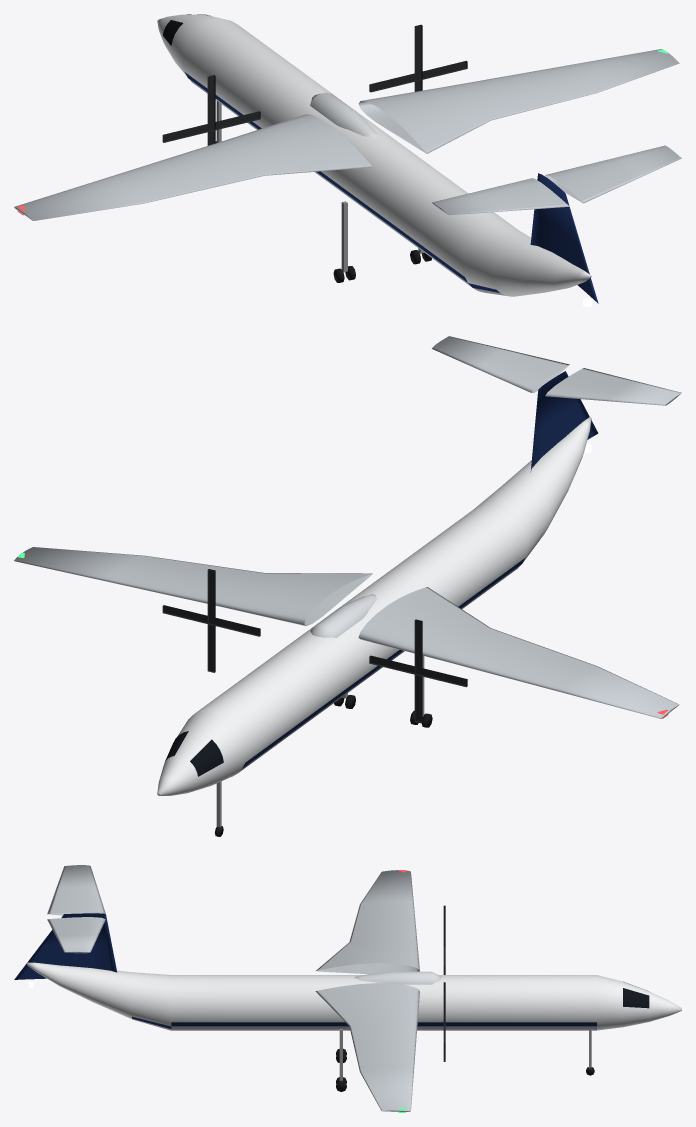
File: fleet_turboprop2_lod0.glb
3 views of the same model, one above another, from view 1: azimuth 30°, elevation 25°; view 2: azimuth 150°, elevation 25°; view 3: azimuth 270°, elevation 25° (orthographic). The views are drawn at different scales.
Parts seen in each view (by area): view 1: fleet_turboprop2_lod0_wing, fleet_turboprop2_lod0_white, fleet_turboprop2_lod0_blue, fleet_turboprop2_lod0_dark, fleet_turboprop2_lod0_nacelle, fleet_turboprop2_lod0_metal, fleet_turboprop2_lod0_belly, fleet_turboprop2_lod0_tyre; view 2: fleet_turboprop2_lod0_wing, fleet_turboprop2_lod0_white, fleet_turboprop2_lod0_blue, fleet_turboprop2_lod0_dark, fleet_turboprop2_lod0_nacelle, fleet_turboprop2_lod0_glass; view 3: fleet_turboprop2_lod0_white, fleet_turboprop2_lod0_wing, fleet_turboprop2_lod0_blue, fleet_turboprop2_lod0_belly, fleet_turboprop2_lod0_nacelle, fleet_turboprop2_lod0_dark, fleet_turboprop2_lod0_glass.
Part boxes in pixels (<box>): fleet_turboprop2_lod0_wing: <box>14,49,681,220</box>; fleet_turboprop2_lod0_white: <box>157,14,591,296</box>; fleet_turboprop2_lod0_blue: <box>185,72,598,303</box>; fleet_turboprop2_lod0_dark: <box>162,24,467,145</box>; fleet_turboprop2_lod0_nacelle: <box>310,92,376,137</box>; fleet_turboprop2_lod0_metal: <box>216,101,424,272</box>; fleet_turboprop2_lod0_belly: <box>188,78,515,296</box>; fleet_turboprop2_lod0_tyre: <box>215,141,431,282</box>; fleet_turboprop2_lod0_wing: <box>14,336,681,718</box>; fleet_turboprop2_lod0_white: <box>157,417,591,795</box>; fleet_turboprop2_lod0_blue: <box>242,371,598,768</box>; fleet_turboprop2_lod0_dark: <box>162,569,467,723</box>; fleet_turboprop2_lod0_nacelle: <box>310,594,376,637</box>; fleet_turboprop2_lod0_glass: <box>164,731,223,776</box>; fleet_turboprop2_lod0_white: <box>27,962,681,1030</box>; fleet_turboprop2_lod0_wing: <box>47,865,419,1111</box>; fleet_turboprop2_lod0_blue: <box>14,913,596,1028</box>; fleet_turboprop2_lod0_belly: <box>132,1018,596,1030</box>; fleet_turboprop2_lod0_nacelle: <box>354,971,441,984</box>; fleet_turboprop2_lod0_dark: <box>443,905,445,1061</box>; fleet_turboprop2_lod0_glass: <box>623,981,649,1008</box>.
Size of the model in its own units: 28.4 by 9.23 by 33.46.
